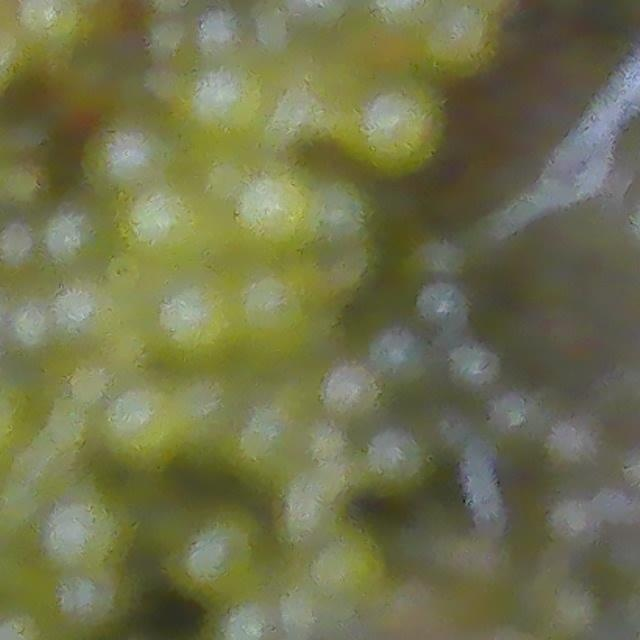SeaGrape: (159, 507, 264, 608), (343, 81, 446, 173), (92, 383, 184, 470), (125, 181, 216, 263), (82, 118, 182, 192), (179, 65, 271, 145), (47, 489, 121, 587), (155, 272, 237, 360), (238, 267, 311, 356), (231, 169, 302, 249), (428, 3, 503, 77), (369, 0, 434, 45)
